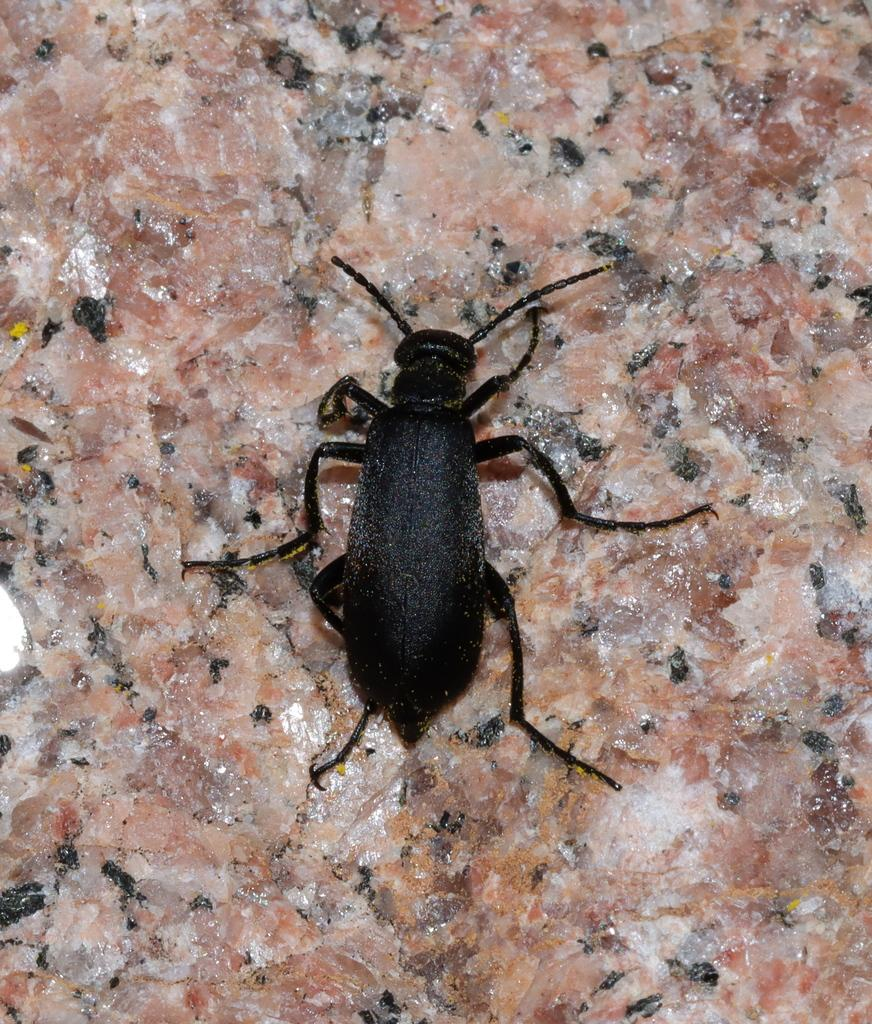blister_beetle: (106, 175, 767, 877)
